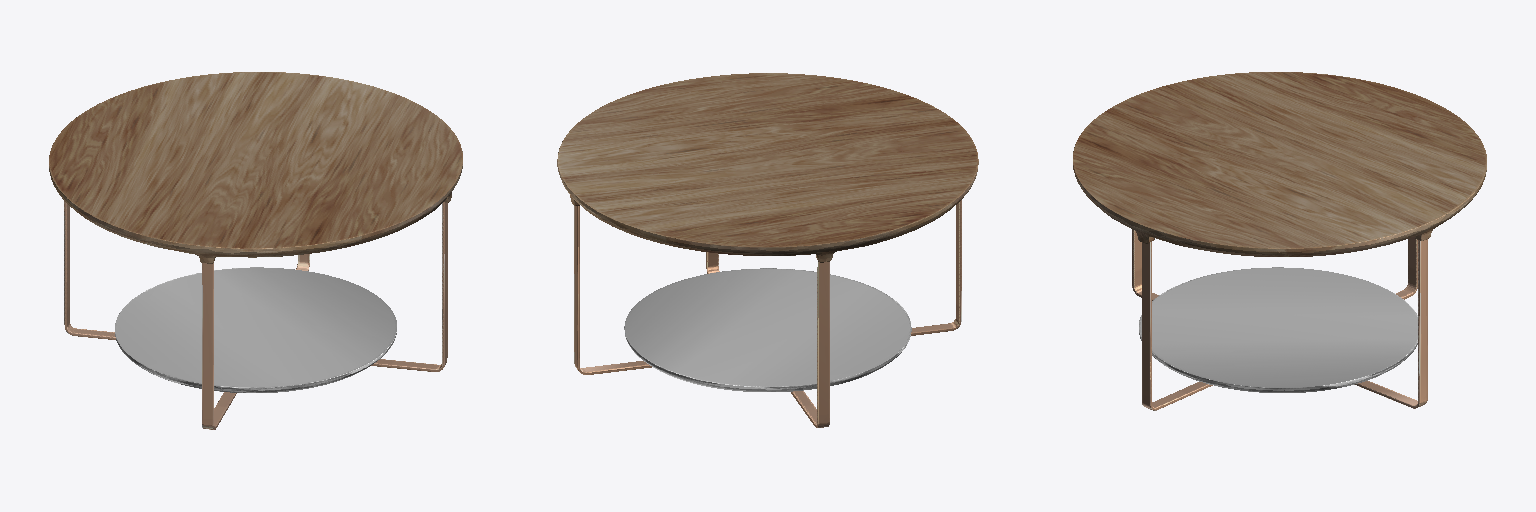
3 renders of one model, left to right at view 1: azimuth 30°, elevation 25°; view 2: azimuth 150°, elevation 25°; view 3: azimuth 270°, elevation 25°, orthographic.
Parts seen in each view (by area): view 1: solid_003, solid_002, solid_001; view 2: solid_003, solid_002, solid_001; view 3: solid_003, solid_002, solid_001.
Part boxes in pixels (bbox=[...]): solid_003: bbox=[49, 72, 462, 263]; solid_002: bbox=[115, 267, 396, 392]; solid_001: bbox=[64, 201, 447, 429]; solid_003: bbox=[557, 73, 978, 262]; solid_002: bbox=[624, 268, 911, 391]; solid_001: bbox=[574, 200, 961, 427]; solid_003: bbox=[1073, 72, 1486, 256]; solid_002: bbox=[1139, 267, 1417, 392]; solid_001: bbox=[1132, 229, 1427, 410].
Bounding box in the file's own units: 1.99 × 1.01 × 1.97.
Materials: 1 (1 with a texture image).